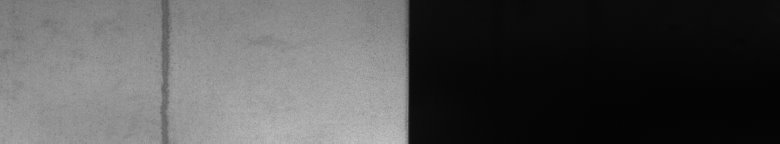hd: (156, 4, 176, 136)
